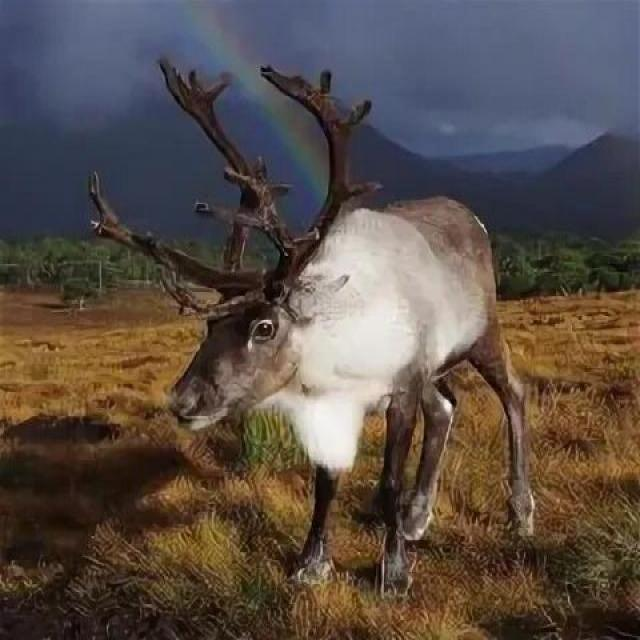deer: (80, 59, 584, 562)
